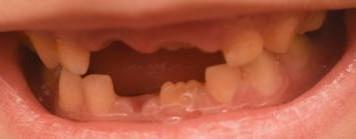Hypodontia: (152, 40, 228, 72), (83, 45, 148, 75), (109, 80, 169, 106)
